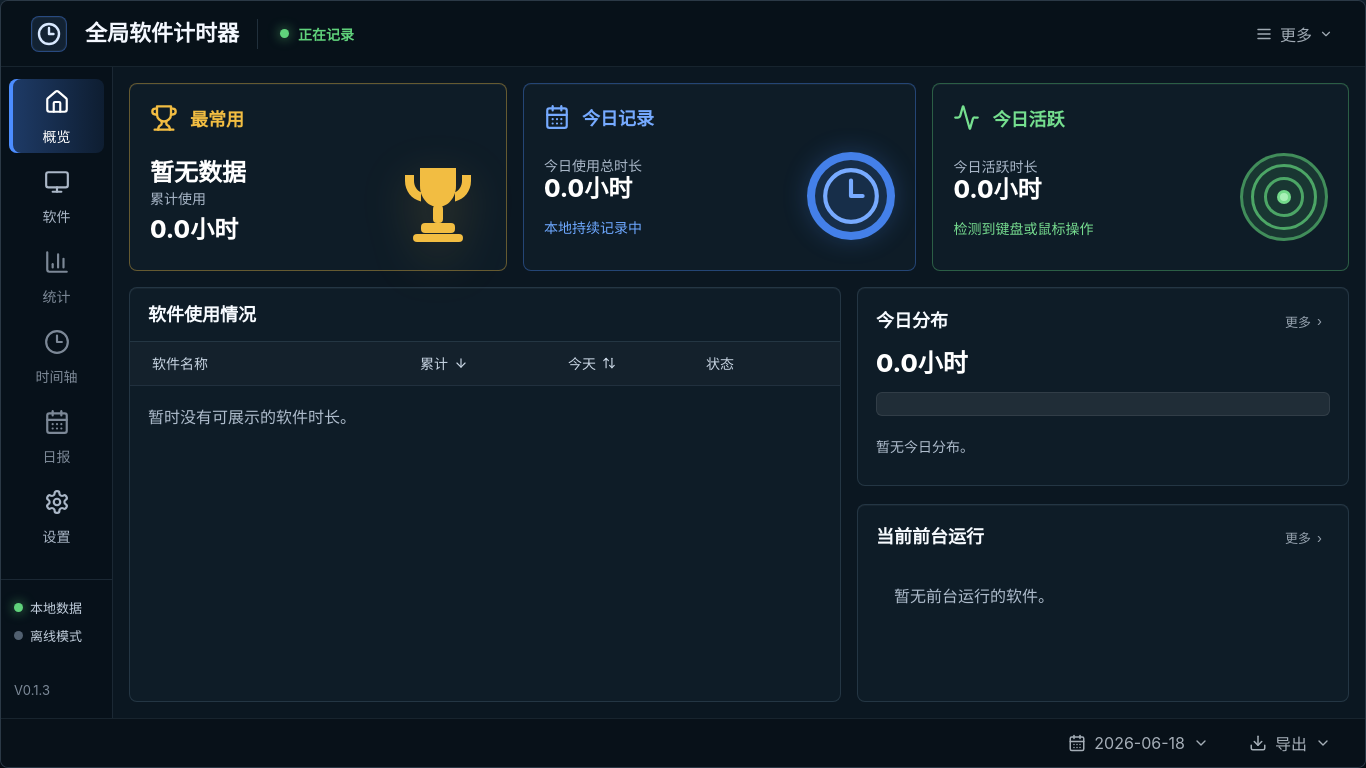
Scenario: App › closes the add dialog on Escape and returns focus to the opener
Click the button "软件". click: [56, 196]
box: [9,159,104,233]
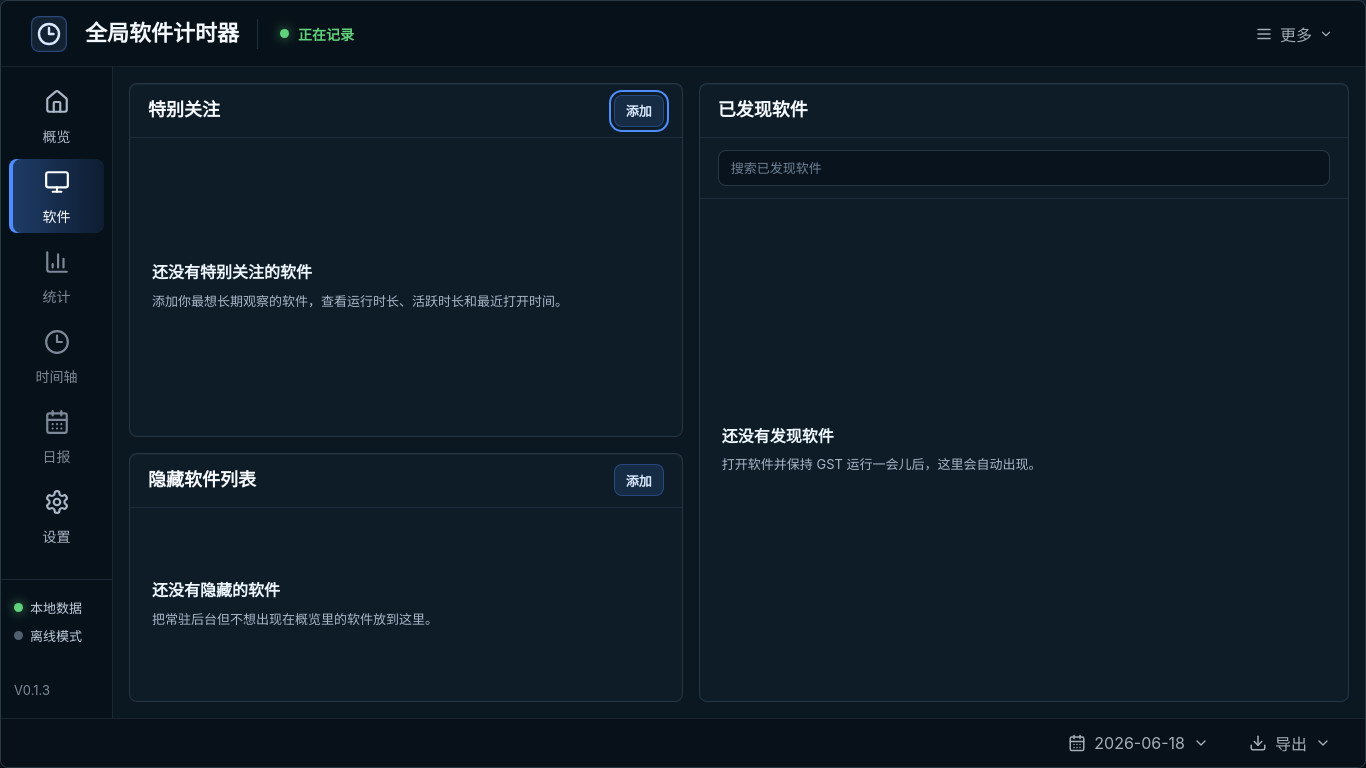
Click the button with aria-label "添加特别关注". click: [639, 110]
box: [614,94,664,126]
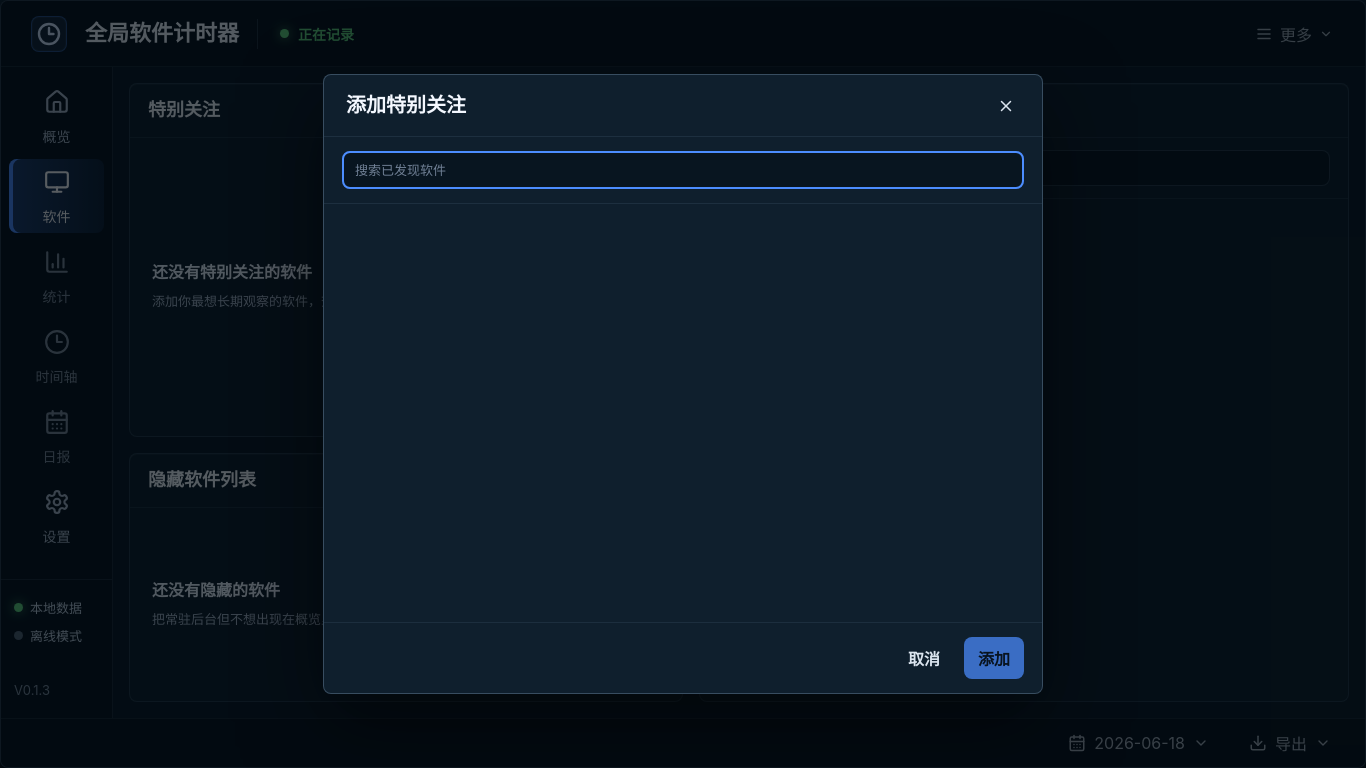
Result: the dialog "添加特别关注" is shown at [323,74,1043,694]
Press Escape
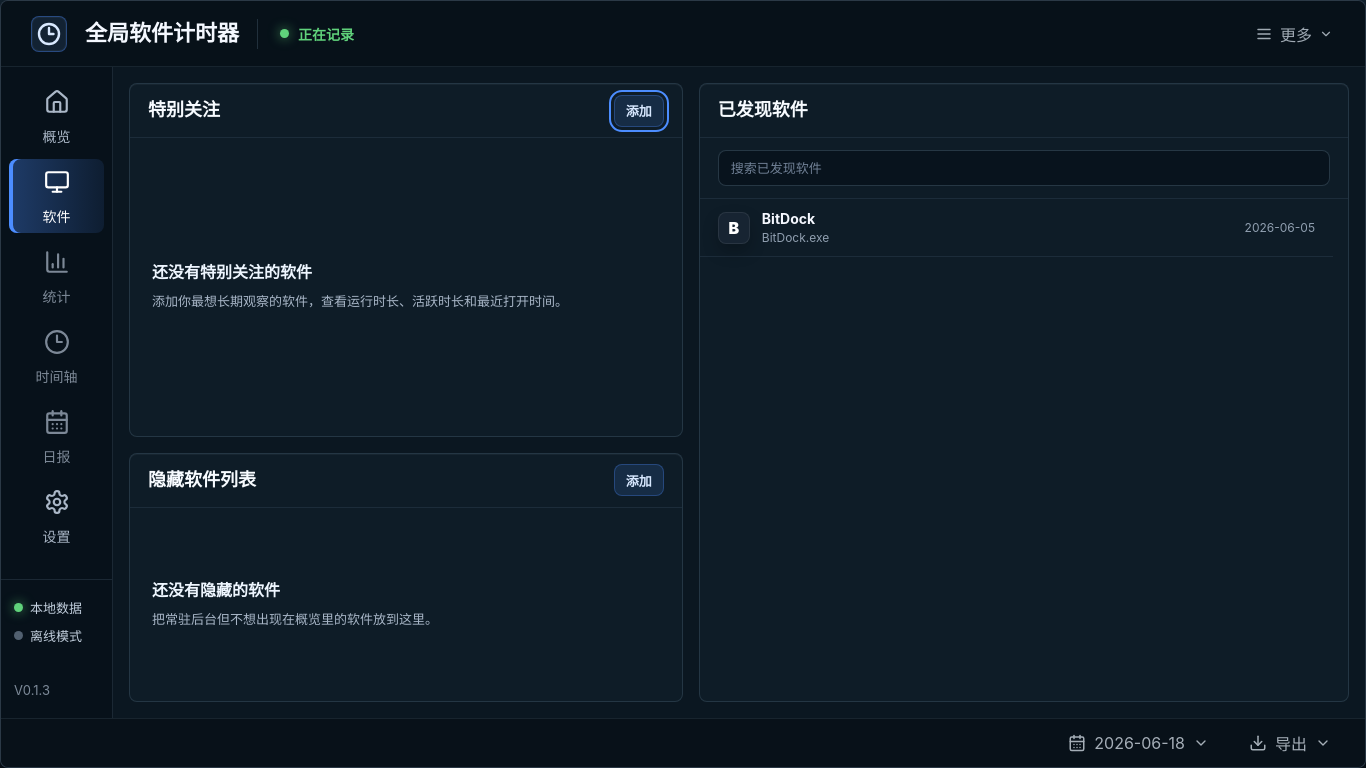
Result: the heading "添加特别关注" is gone
